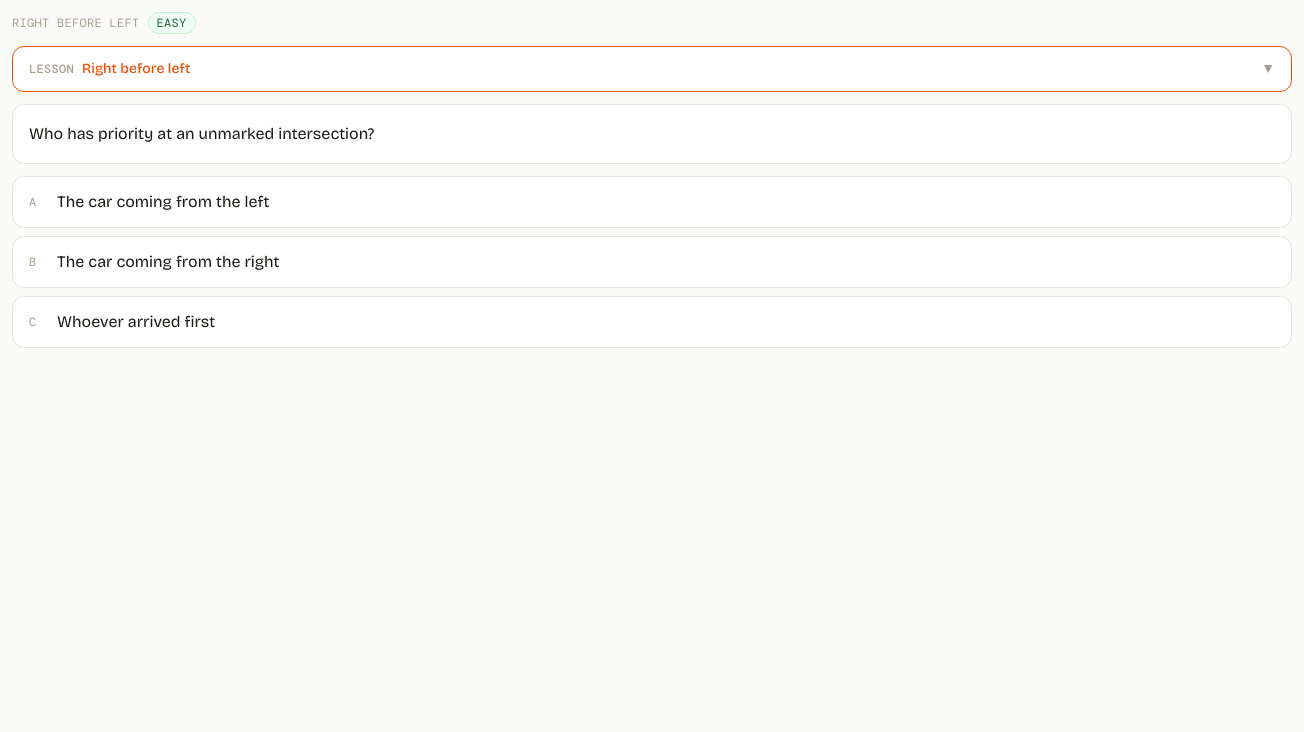
QuestionCard › shows FeedbackPanel after clicking an option
Expected: the text "Right-before-left is the default Dutch rule." is not shown
Click the text "The car coming from the right": (168, 262) [57,252,280,271]
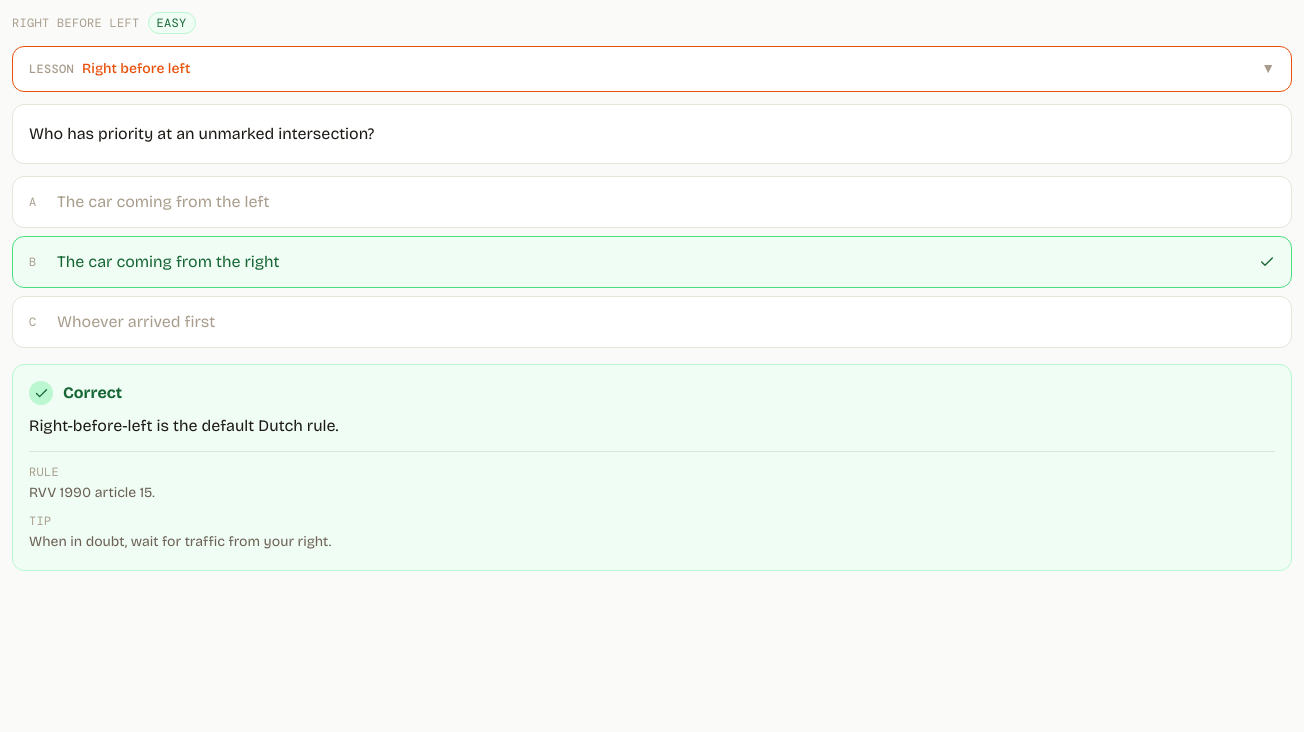
Now the text "Right-before-left is the default Dutch rule." is shown, box [29,416,338,435]
